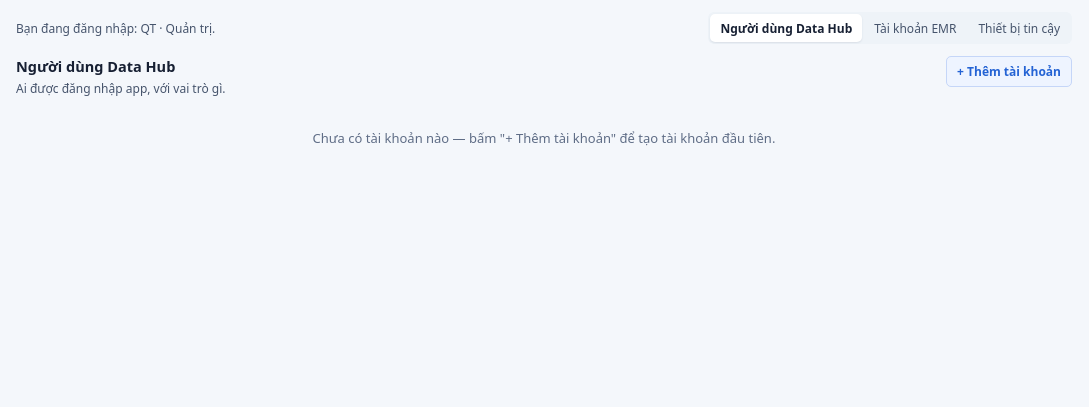
Test: AccountSettingsTab › quản trị: ba mục ở một chỗ; Tài khoản EMR chỉ ra chỗ khai trùng và người chưa có tài khoản
Expected: the radio button labelled "Thiết bị tin cậy" is shown, [968, 14, 1070, 42]
Click the radio button labelled "Tài khoản EMR": (915, 28) [864, 14, 966, 42]
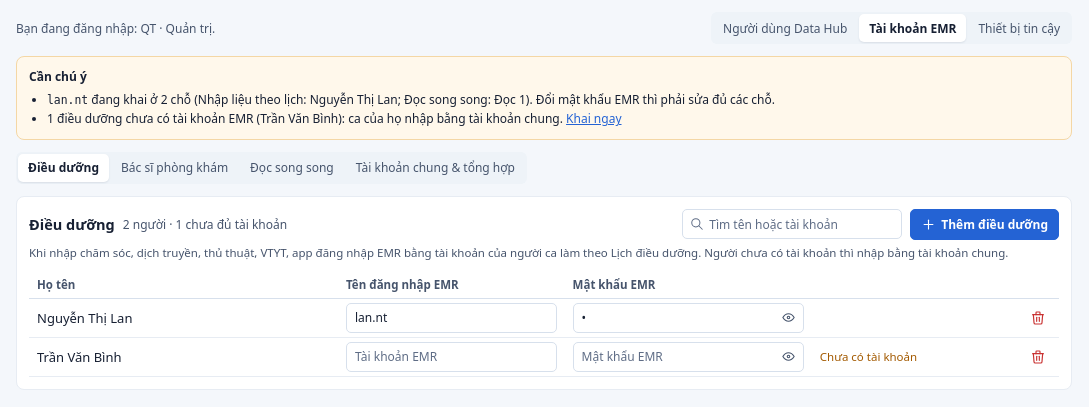
Expected: the field named "Tài khoản EMR của Trần Văn Bình" is shown, [346, 342, 557, 372]
